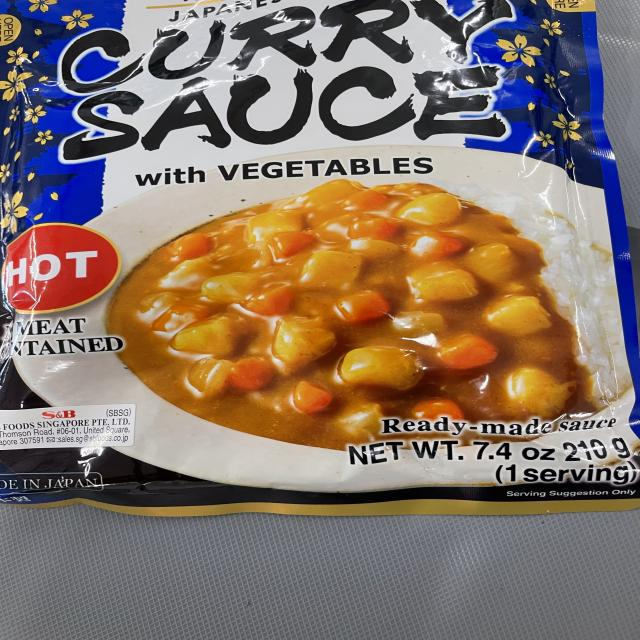object_name: (0, 0, 639, 492)
